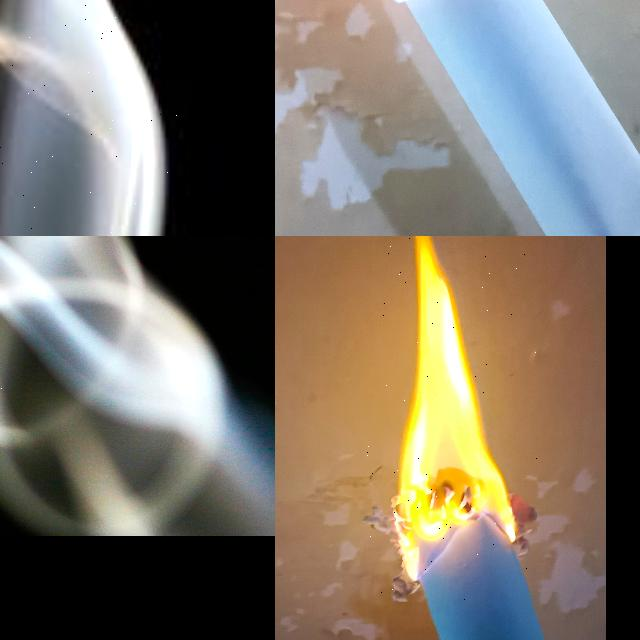fire: (367, 236, 536, 601)
smoke: (0, 0, 163, 236), (0, 236, 144, 289)
